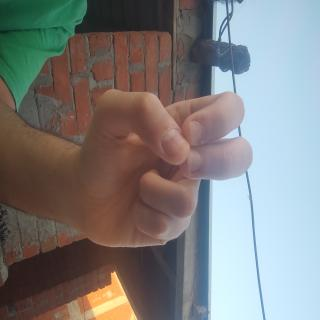QAAF: (62, 89, 189, 320)
